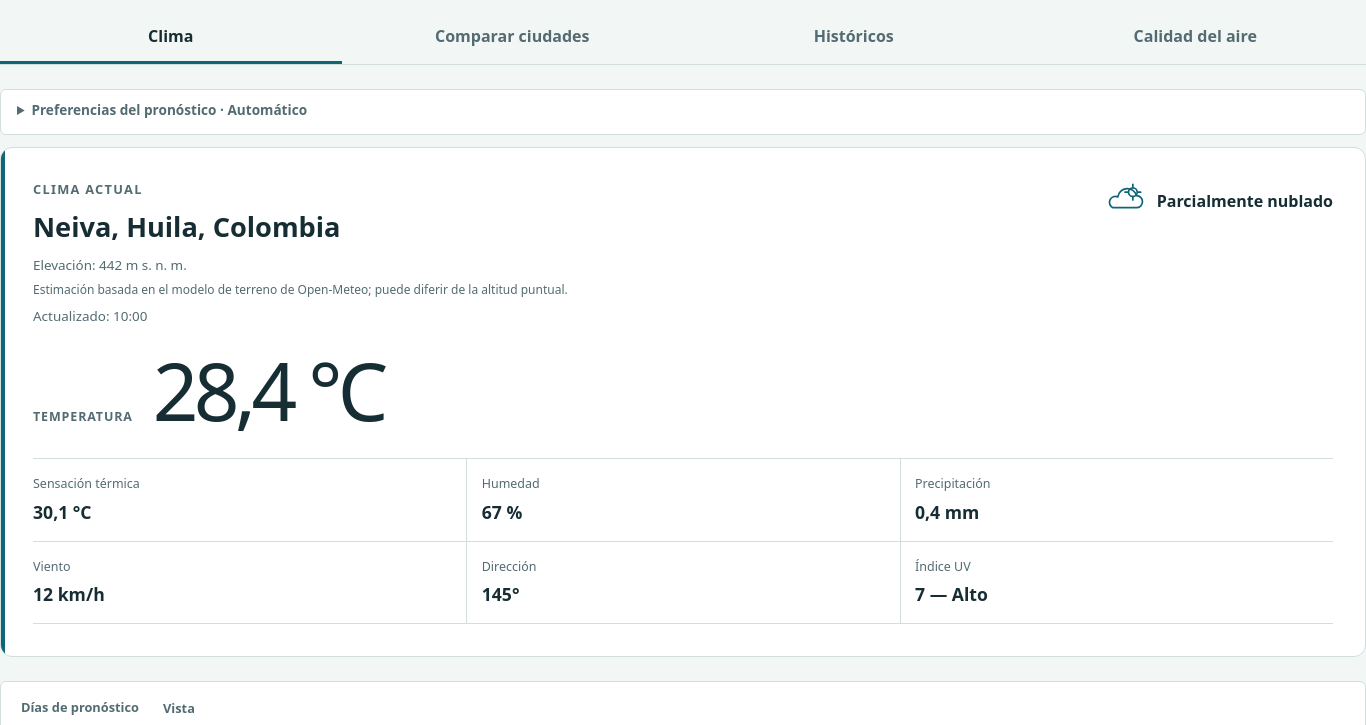
Test: CurrentWeather › confirma la ciudad agregada, actualiza el contador y limpia el buscador
Click the button "Comparar ciudades": (512, 38) [342, 11, 683, 64]
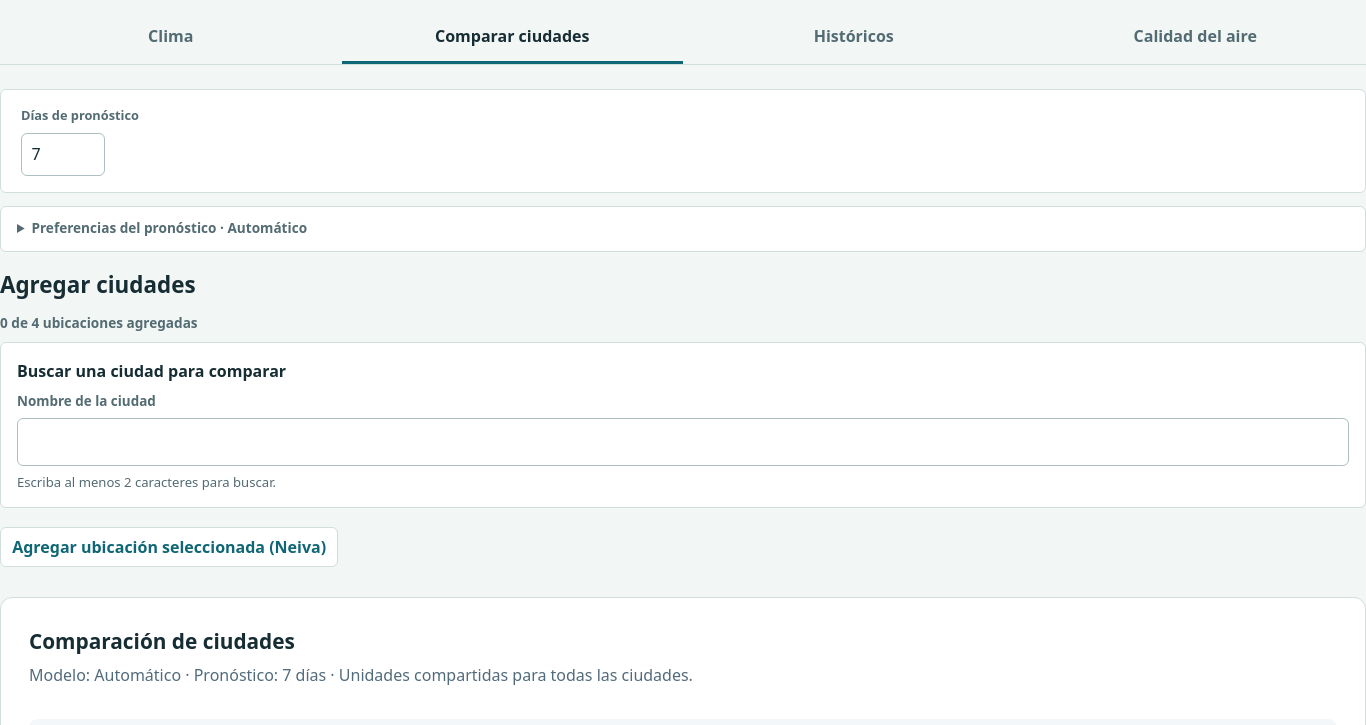
In the dropdown labelled "Nombre de la ciudad": (683, 442) [17, 418, 1349, 466], type "Bogotá"
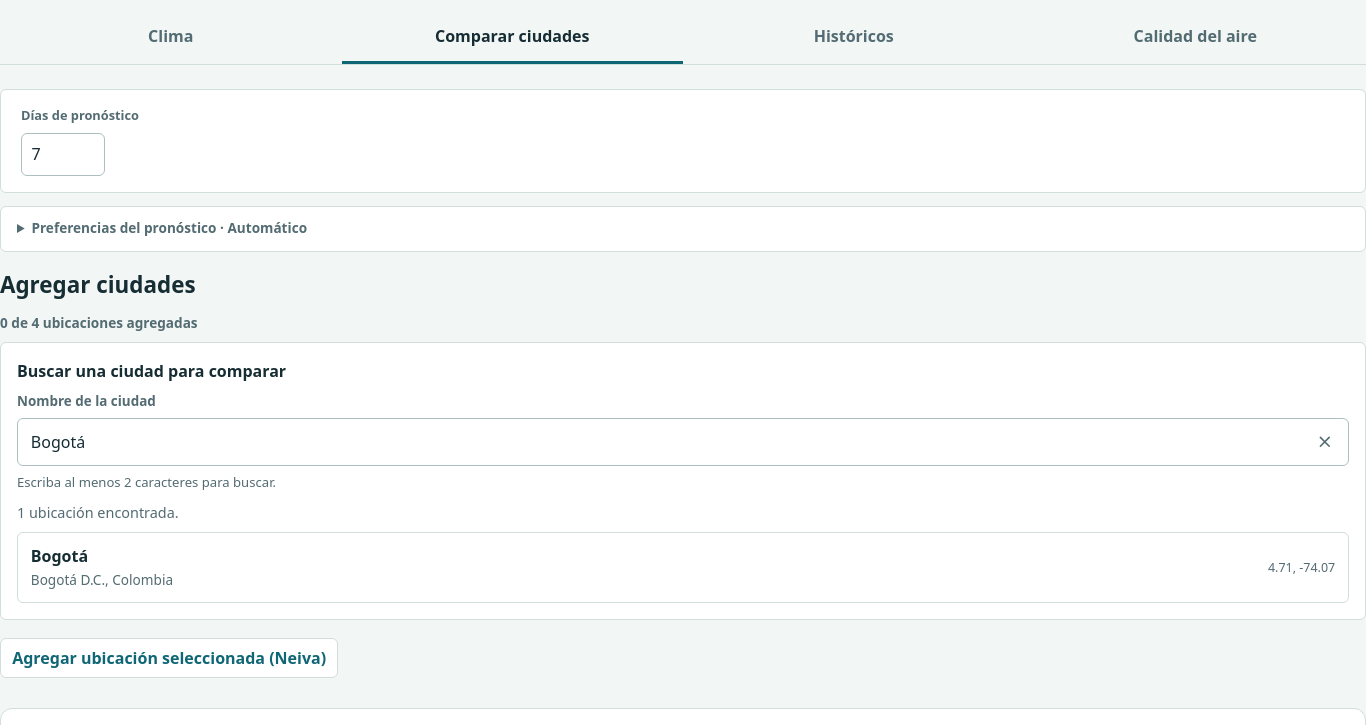
Click the option "Bogotá Bogotá D.C., Colombia 4.71, -74.07": (59, 556) [18, 533, 1348, 602]
(page scrolled)
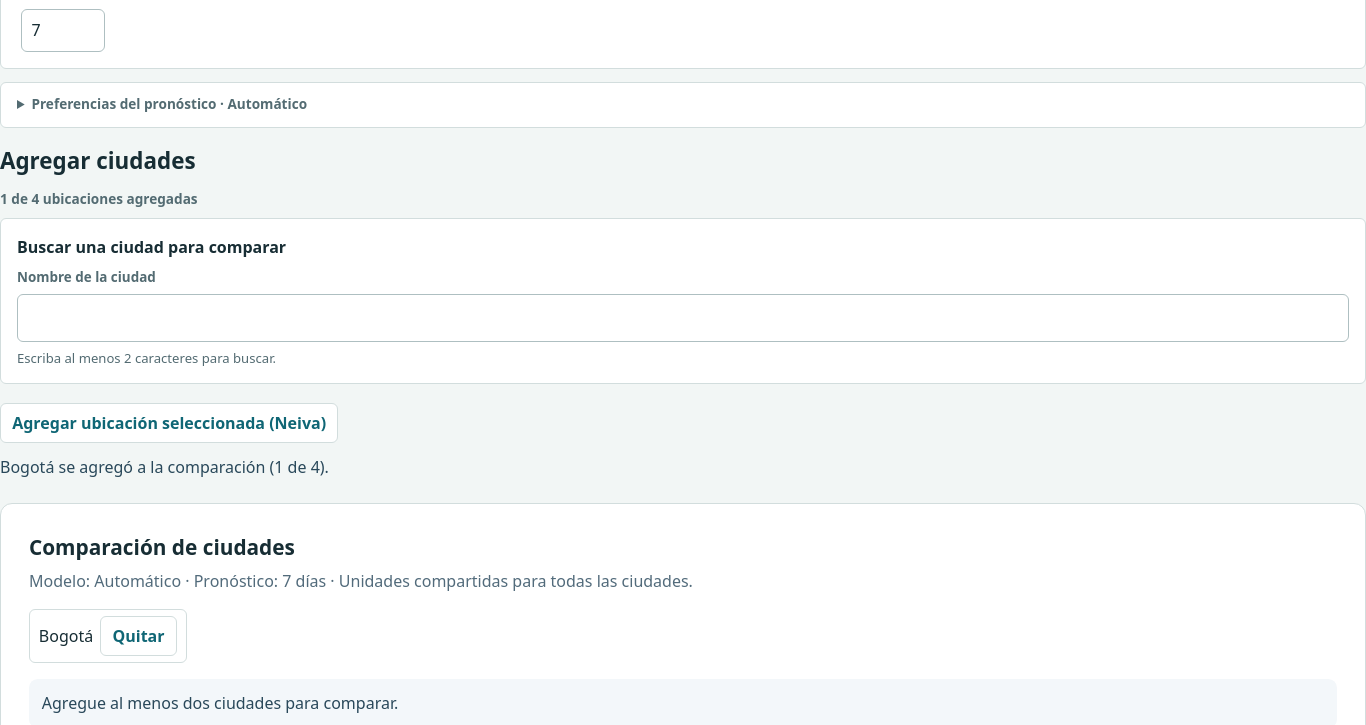
Now the text "Bogotá se agregó a la comparación (1 de 4)." is shown, box [0, 456, 329, 478]
Now the text "1 de 4 ubicaciones agregadas" is shown, box [0, 189, 198, 208]
Now the dropdown labelled "Nombre de la ciudad" is empty, box [17, 294, 1349, 342]
